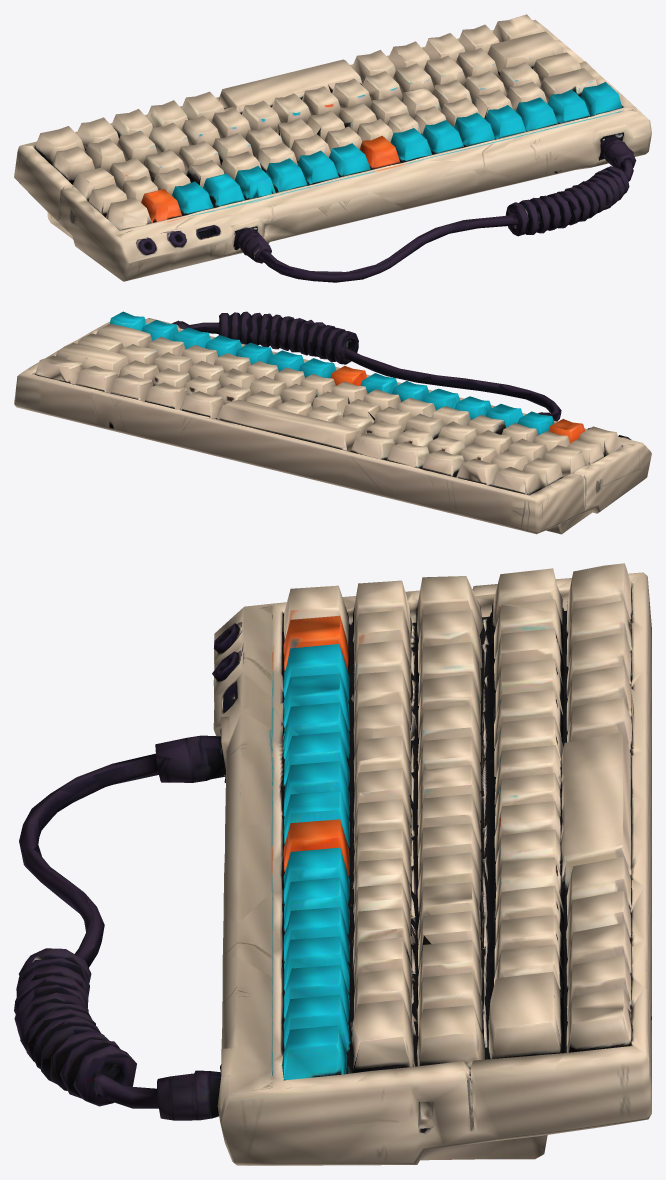
The model's file is MILESKeyboard.glb.
3 renders of one model, top to bottom at view 1: azimuth 30°, elevation 25°; view 2: azimuth 150°, elevation 25°; view 3: azimuth 270°, elevation 25°, orthographic. The views are drawn at different scales.
Parts seen in each view (by area): view 1: Mesh_0; view 2: Mesh_0; view 3: Mesh_0.
Boxes of the visible parts, x1,y1,x2,y2 form: Mesh_0: (14,14,651,282); Mesh_0: (14,311,651,534); Mesh_0: (14,563,651,1165).
Size of the model in its own units: 1.9 by 0.2565 by 1.05.
Materials: 1 (1 with a texture image).
